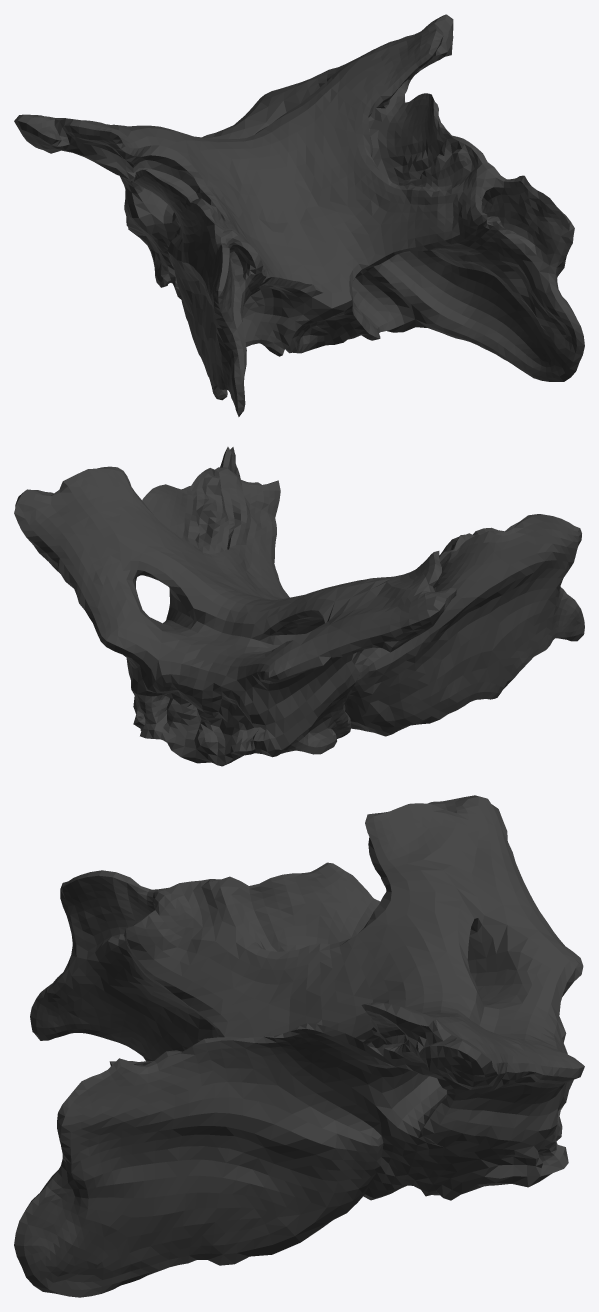
The model's file is Presphenoid.glb.
3 views of the same model, one above another, from view 1: azimuth 30°, elevation 25°; view 2: azimuth 150°, elevation 25°; view 3: azimuth 270°, elevation 25° (orthographic). The views are drawn at different scales.
Visible parts, largest first — view 1: Presphenoid; view 2: Presphenoid; view 3: Presphenoid.
Boxes of the visible parts, box(x1,y1,x2,y2) form: Presphenoid: box(14, 14, 584, 416); Presphenoid: box(14, 447, 584, 766); Presphenoid: box(14, 795, 584, 1297).
Size of the model in its own units: 215 by 118 by 201.
Materials: 1 (1 with a texture image).
